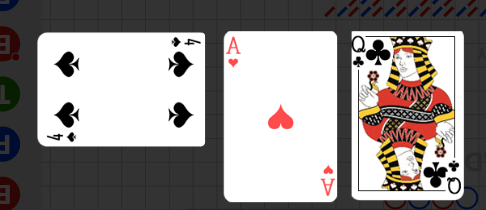4S: (168, 35, 202, 48), (45, 130, 79, 143)
QC: (353, 31, 397, 78), (420, 152, 464, 198)
